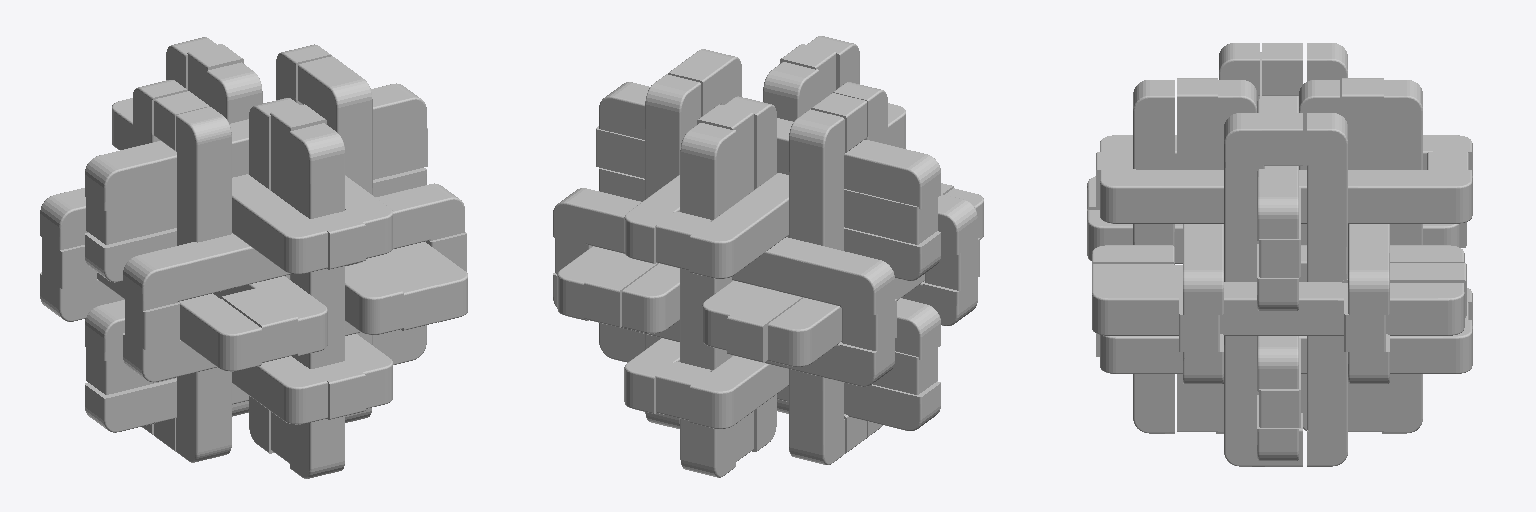
File: lock_dist.obj
The picture shows the model from 3 angles: view 1: azimuth 30°, elevation 25°; view 2: azimuth 150°, elevation 25°; view 3: azimuth 270°, elevation 25°; orthographic projection.
Parts seen in each view (by area): view 1: Mtl Mesh, Mtl2 Mesh, Mtl1 Mesh, Mtl6 Mesh, Mtl3 Mesh, Mtl4 Mesh, Mtl8 Mesh, Mtl5 Mesh, Mtl9 Mesh; view 2: Mtl Mesh, Mtl2 Mesh, Mtl3 Mesh, Mtl1 Mesh, Mtl4 Mesh, Mtl7 Mesh, Mtl6 Mesh; view 3: Mtl Mesh, Mtl2 Mesh, Mtl3 Mesh, Mtl1 Mesh, Mtl4 Mesh, Mtl9 Mesh, Mtl6 Mesh, Mtl8 Mesh, Mtl7 Mesh.
Part boxes in pixels (left/top/right/bottom): Mtl Mesh: left=40, top=44, right=464, bottom=434; Mtl2 Mesh: left=85, top=37, right=467, bottom=478; Mtl1 Mesh: left=42, top=56, right=466, bottom=451; Mtl6 Mesh: left=176, top=107, right=231, bottom=462; Mtl3 Mesh: left=86, top=44, right=427, bottom=463; Mtl4 Mesh: left=97, top=273, right=327, bottom=371; Mtl8 Mesh: left=345, top=262, right=403, bottom=334; Mtl5 Mesh: left=221, top=288, right=297, bottom=362; Mtl9 Mesh: left=347, top=251, right=438, bottom=330; Mtl Mesh: left=553, top=49, right=977, bottom=464; Mtl2 Mesh: left=557, top=36, right=940, bottom=477; Mtl3 Mesh: left=584, top=44, right=937, bottom=461; Mtl1 Mesh: left=555, top=58, right=979, bottom=453; Mtl4 Mesh: left=702, top=188, right=983, bottom=366; Mtl7 Mesh: left=622, top=263, right=679, bottom=333; Mtl6 Mesh: left=833, top=82, right=887, bottom=437; Mtl Mesh: left=1100, top=43, right=1472, bottom=466; Mtl2 Mesh: left=1092, top=52, right=1464, bottom=460; Mtl3 Mesh: left=1177, top=78, right=1466, bottom=431; Mtl1 Mesh: left=1096, top=43, right=1468, bottom=466; Mtl4 Mesh: left=1087, top=176, right=1459, bottom=263; Mtl9 Mesh: left=1092, top=264, right=1182, bottom=281; Mtl6 Mesh: left=1219, top=43, right=1259, bottom=100; Mtl8 Mesh: left=1092, top=245, right=1174, bottom=264; Mtl7 Mesh: left=1299, top=245, right=1464, bottom=281.
Size of the model in its own units: 0.0906 by 0.0906 by 0.093.